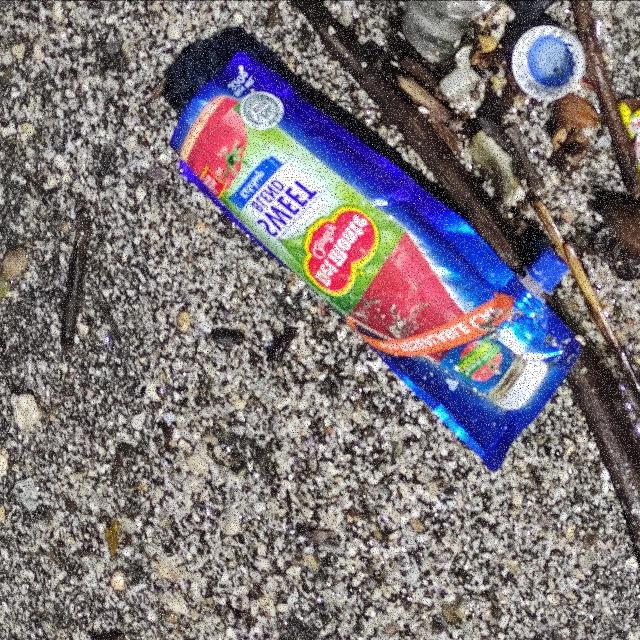plastic_waste: (172, 56, 588, 474), (511, 24, 589, 103)
